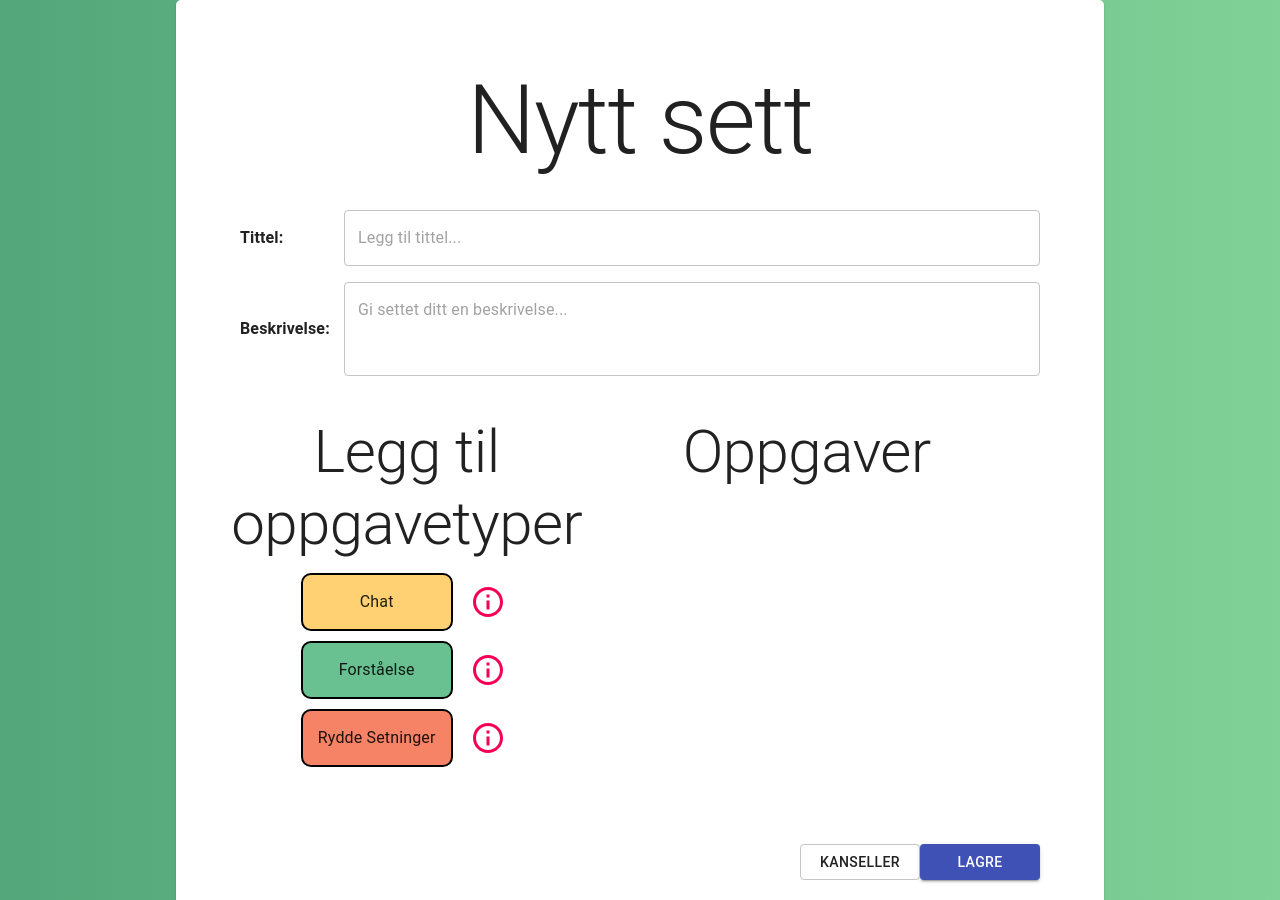
Scenario: CreateExerciseMenu component › forstaelseModal opens correctly
The image size is (1280, 900).
expect the text "Tittel:" is shown: met, box [240,228,283,247]
Click the button with test id "forstaelseModal" at (488,670), box [458,636,518,704]
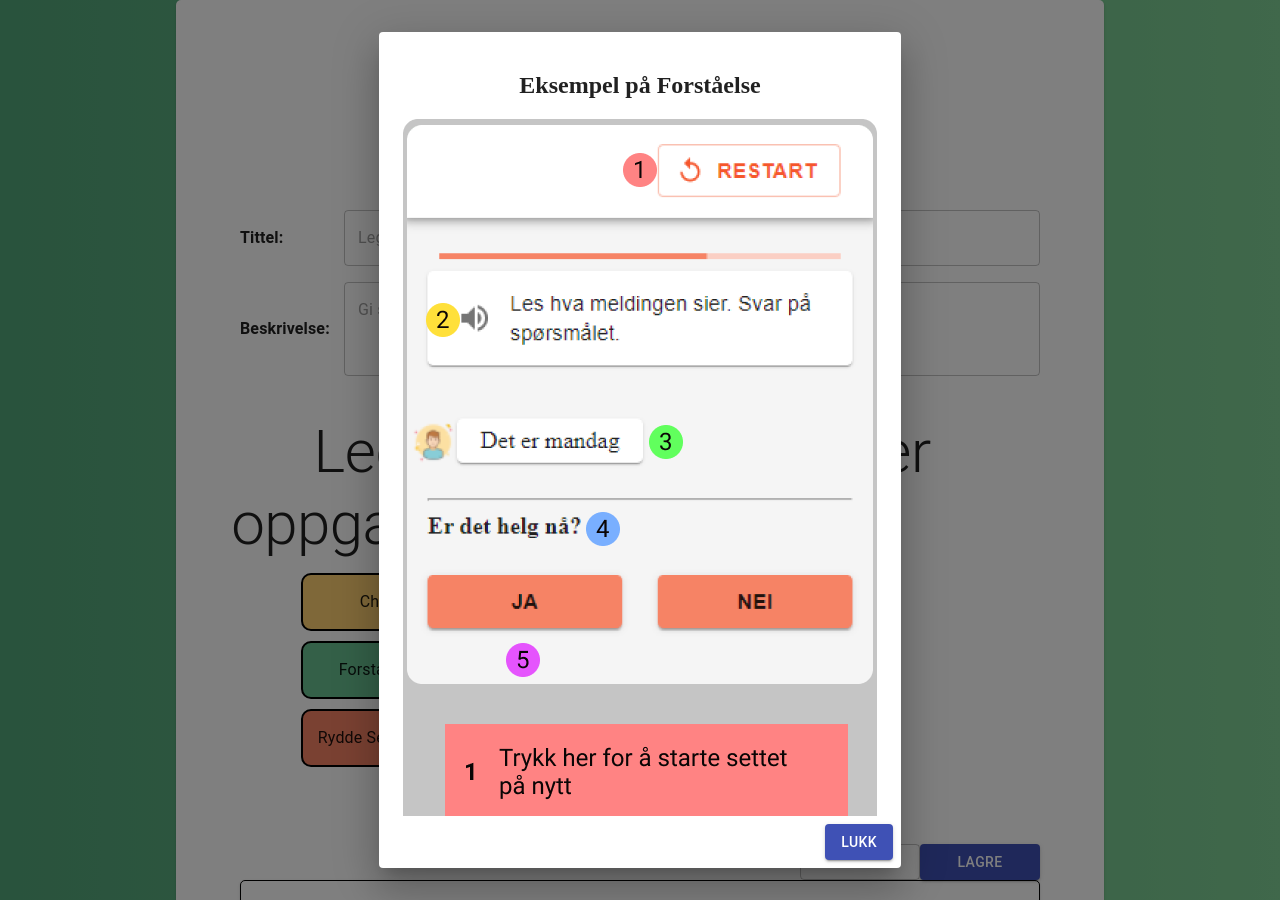
expect the heading "Eksempel på Forståelse" is shown: met, box [519,72,761,98]
